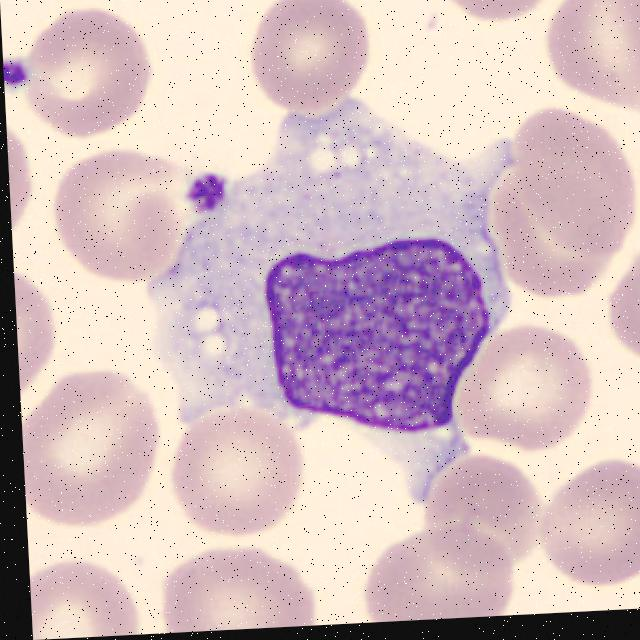monocyte: (143, 120, 527, 510)
platelets: (186, 166, 249, 227), (3, 48, 36, 106)
rbc: (443, 316, 612, 461), (22, 371, 159, 524), (405, 443, 560, 578), (484, 157, 619, 306), (169, 406, 307, 546), (53, 155, 189, 295), (359, 513, 526, 623), (518, 113, 635, 258), (154, 541, 334, 634), (247, 0, 378, 121), (533, 442, 640, 590), (34, 20, 157, 138), (536, 0, 640, 114), (29, 551, 148, 640), (14, 263, 65, 425), (605, 248, 640, 394), (436, 0, 574, 34)
